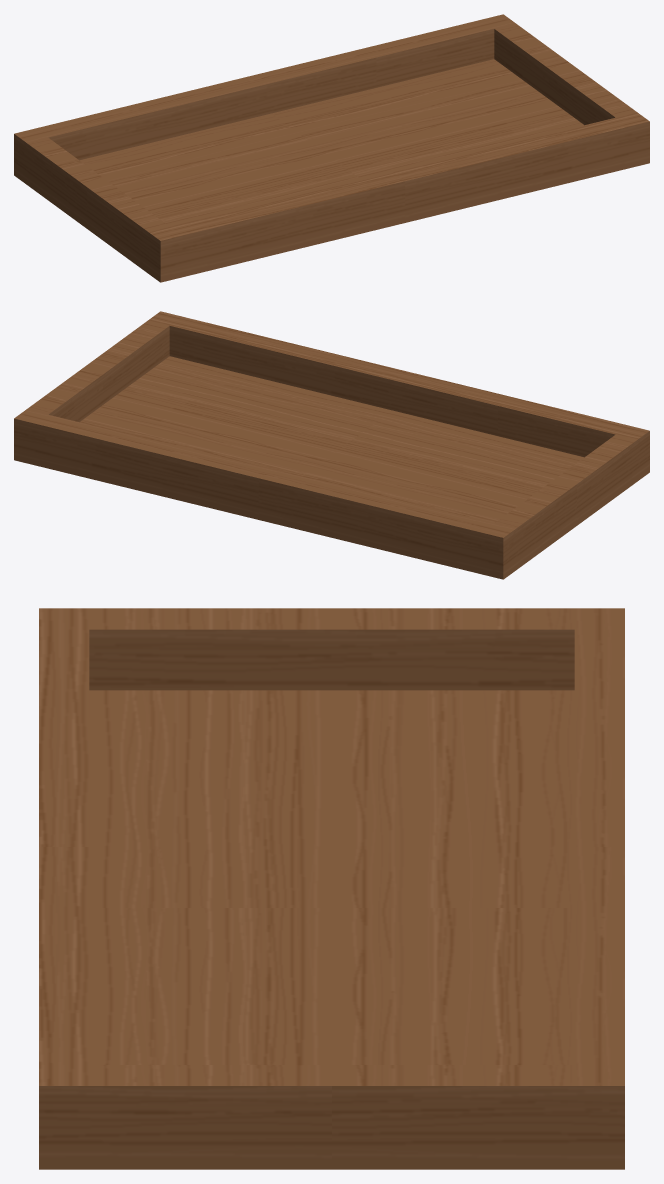
Rendered from tray.glb.
3 views of the same model, one above another, from view 1: azimuth 30°, elevation 25°; view 2: azimuth 150°, elevation 25°; view 3: azimuth 270°, elevation 25° (orthographic). The views are drawn at different scales.
Visible parts, largest first — view 1: tray; view 2: tray; view 3: tray.
Part boxes in pixels (x1,y1,x2,y2): tray: (14,14,649,282); tray: (14,311,649,579); tray: (39,608,624,1169).
Bounding box in the file's own units: 0.27 × 0.022 × 0.14.
Materials: 1 (1 with a texture image).
